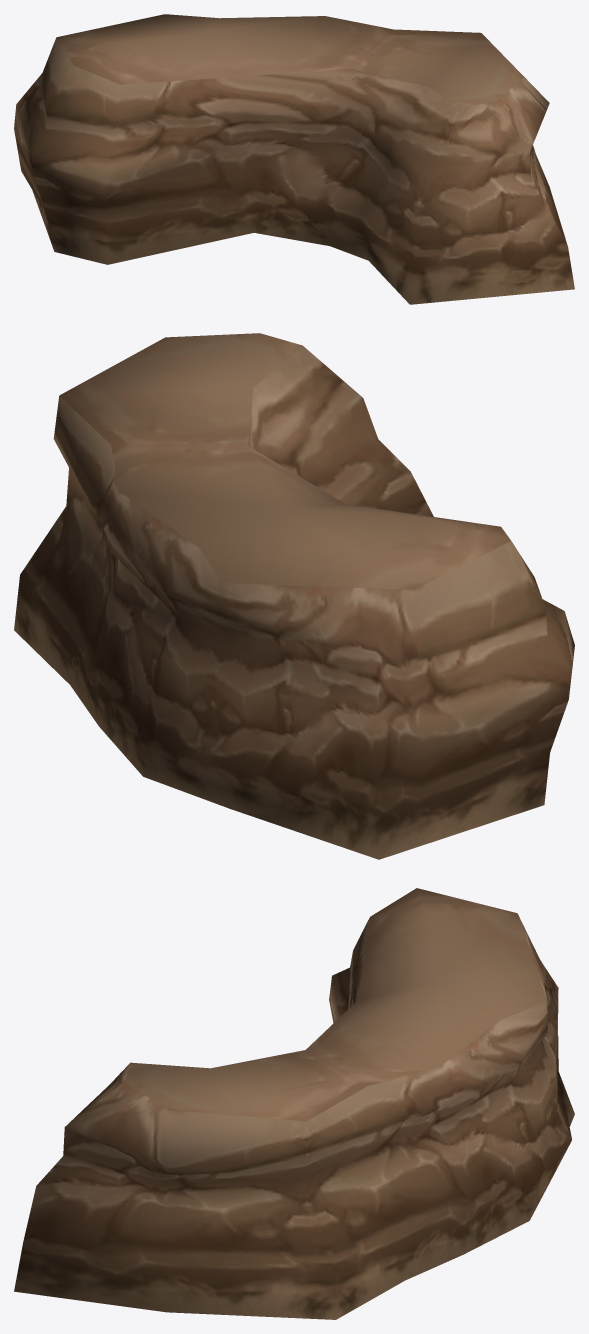
The model's file is FB_5_shanshi01.FBX.
3 views of the same model, one above another, from view 1: azimuth 30°, elevation 25°; view 2: azimuth 150°, elevation 25°; view 3: azimuth 270°, elevation 25° (orthographic). The views are drawn at different scales.
Visible parts, largest first — view 1: shitou11; view 2: shitou11; view 3: shitou11.
Part boxes in pixels (bbox=[...]): shitou11: bbox=[14, 14, 574, 304]; shitou11: bbox=[14, 333, 574, 859]; shitou11: bbox=[14, 888, 574, 1319].
Size of the model in its own units: 2840 by 1191 by 2767.
Materials: 1 (1 with a texture image).
